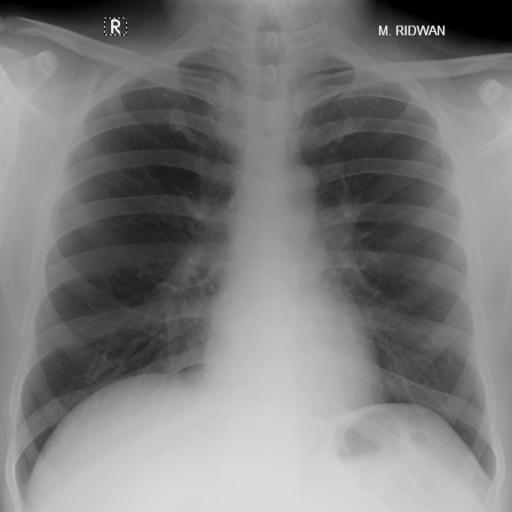normal: (7, 22, 507, 500)
